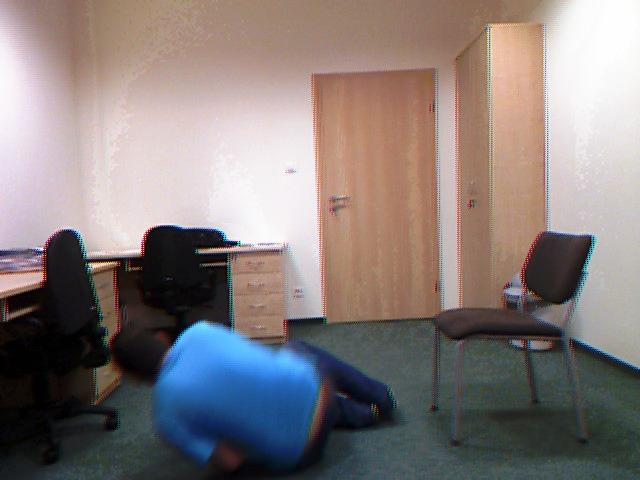fall: (103, 310, 415, 480)
